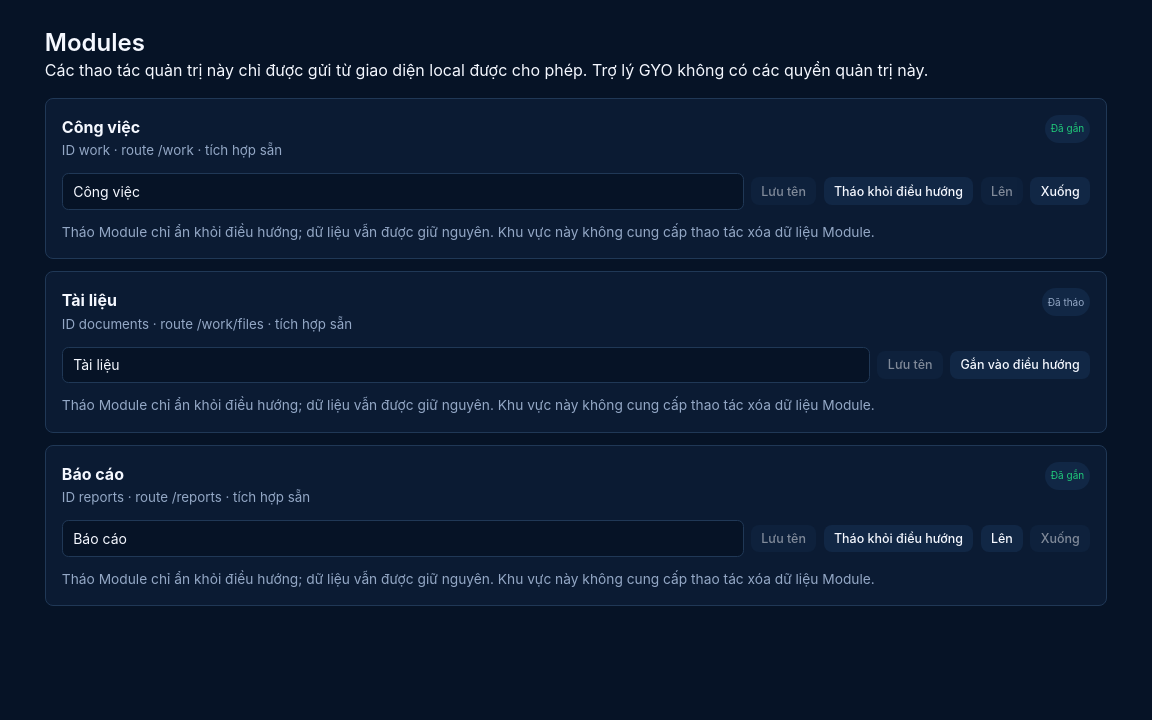
Scenario: ModulesSettings › surfaces stale revision conflicts instead of retrying silently
Click the 1st button "Tháo khỏi điều hướng".
click(898, 191)  # box [824,177,973,205]
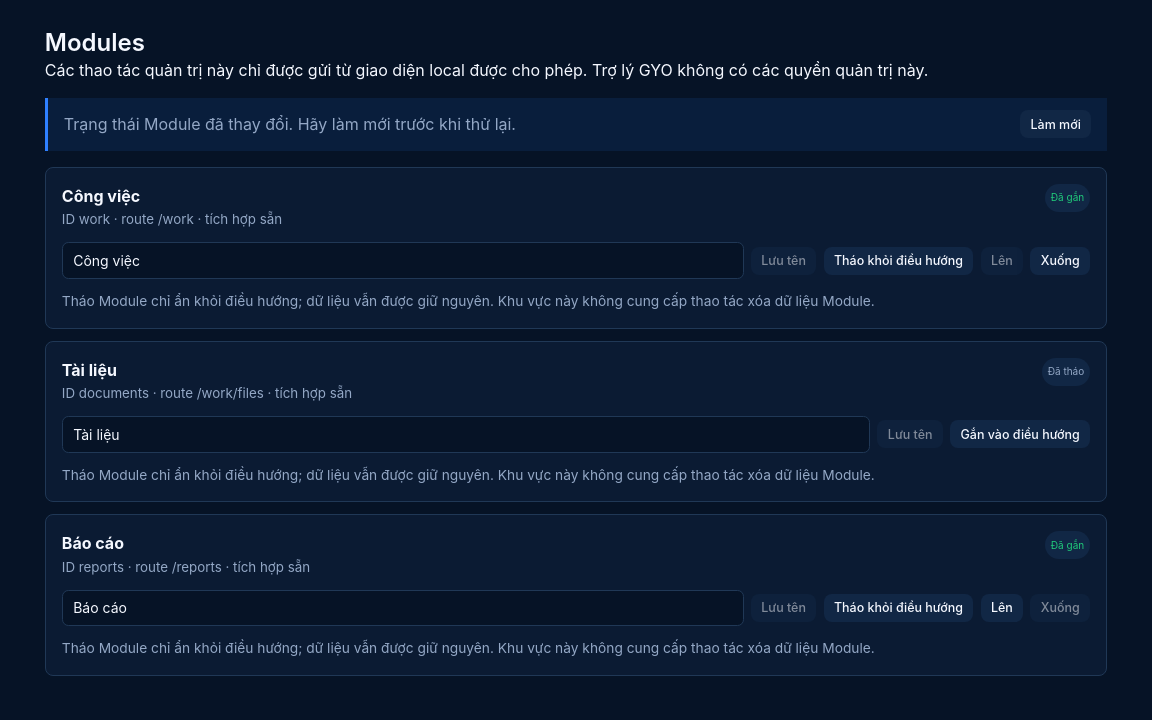
Now the text "Trạng thái Module đã thay đổi. Hãy làm mới trước khi thử lại. Làm mới" is shown, box [45,98,1107,151]
